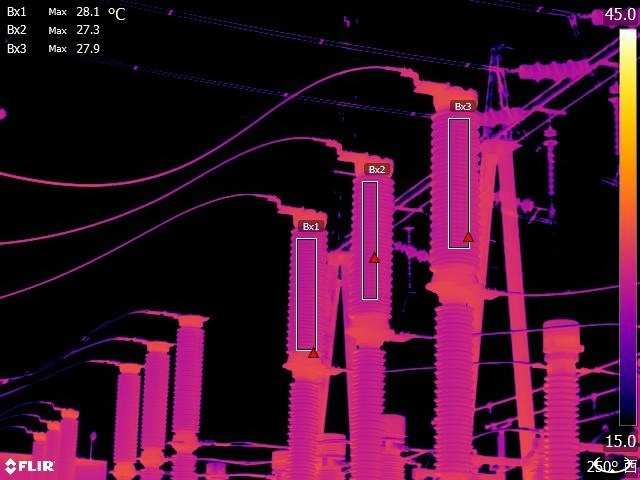circuit breaker: (329, 137, 398, 480), (269, 193, 333, 480), (164, 305, 211, 480), (137, 332, 172, 480), (110, 354, 144, 480), (58, 400, 84, 480), (43, 418, 65, 480), (26, 429, 52, 480)
current transformer: (531, 312, 589, 480)
insulator: (512, 54, 596, 87), (533, 124, 561, 197), (475, 98, 532, 131)
